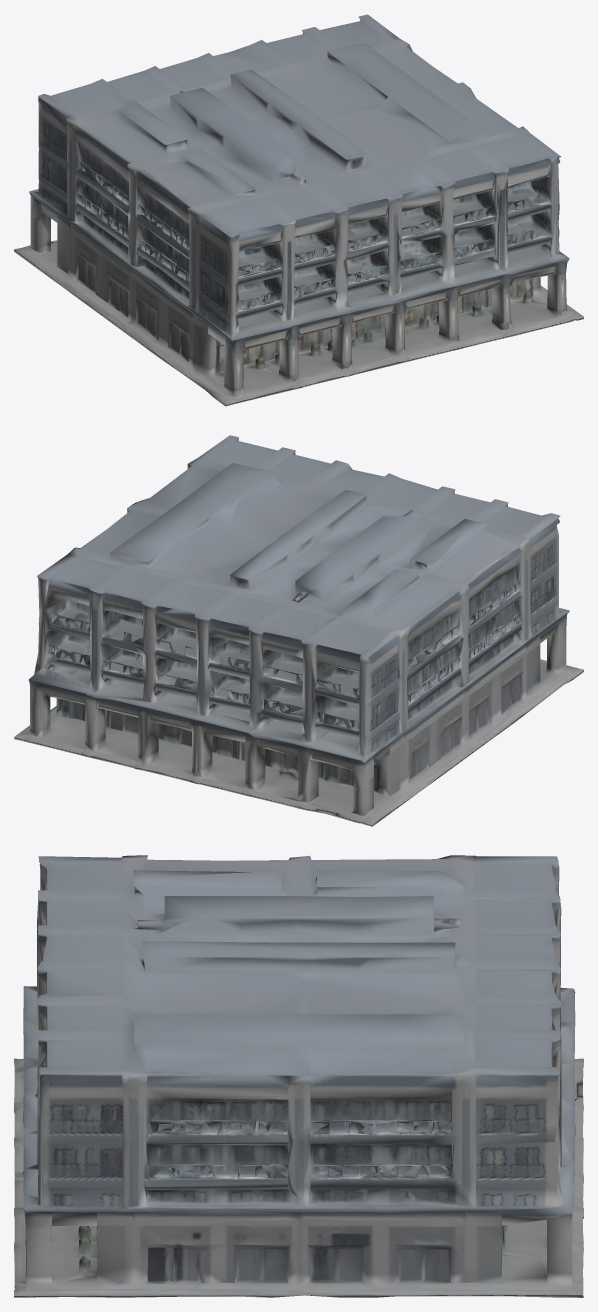
File: 01-modern-storefront-building-3d-model-57.glb
3 views of the same model, one above another, from view 1: azimuth 30°, elevation 25°; view 2: azimuth 150°, elevation 25°; view 3: azimuth 270°, elevation 25° (orthographic). The views are drawn at different scales.
Parts seen in each view (by area): view 1: tripo_node_516d66b0-ddd2-4fb8-81ea-21a2dfe1955b; view 2: tripo_node_516d66b0-ddd2-4fb8-81ea-21a2dfe1955b; view 3: tripo_node_516d66b0-ddd2-4fb8-81ea-21a2dfe1955b.
Boxes of the visible parts, x1=… form: tripo_node_516d66b0-ddd2-4fb8-81ea-21a2dfe1955b: x1=14, y1=14, x2=583, y2=406; tripo_node_516d66b0-ddd2-4fb8-81ea-21a2dfe1955b: x1=14, y1=435, x2=583, y2=826; tripo_node_516d66b0-ddd2-4fb8-81ea-21a2dfe1955b: x1=14, y1=855, x2=583, y2=1297.
Size of the model in its own units: 0.9655 by 0.4466 by 0.9859.
1 material, 1 textured.
